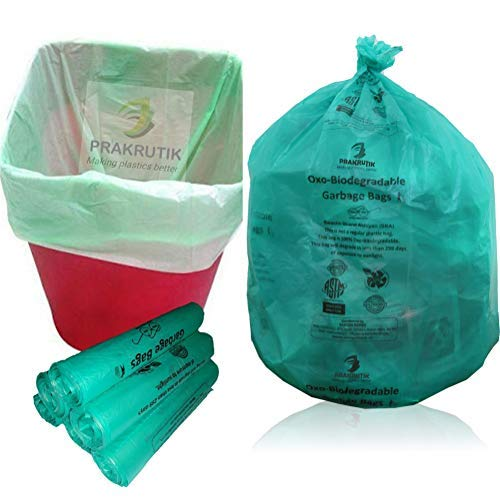plastic_bagwdw: (1, 1, 311, 343), (240, 19, 500, 416), (12, 293, 262, 496)
